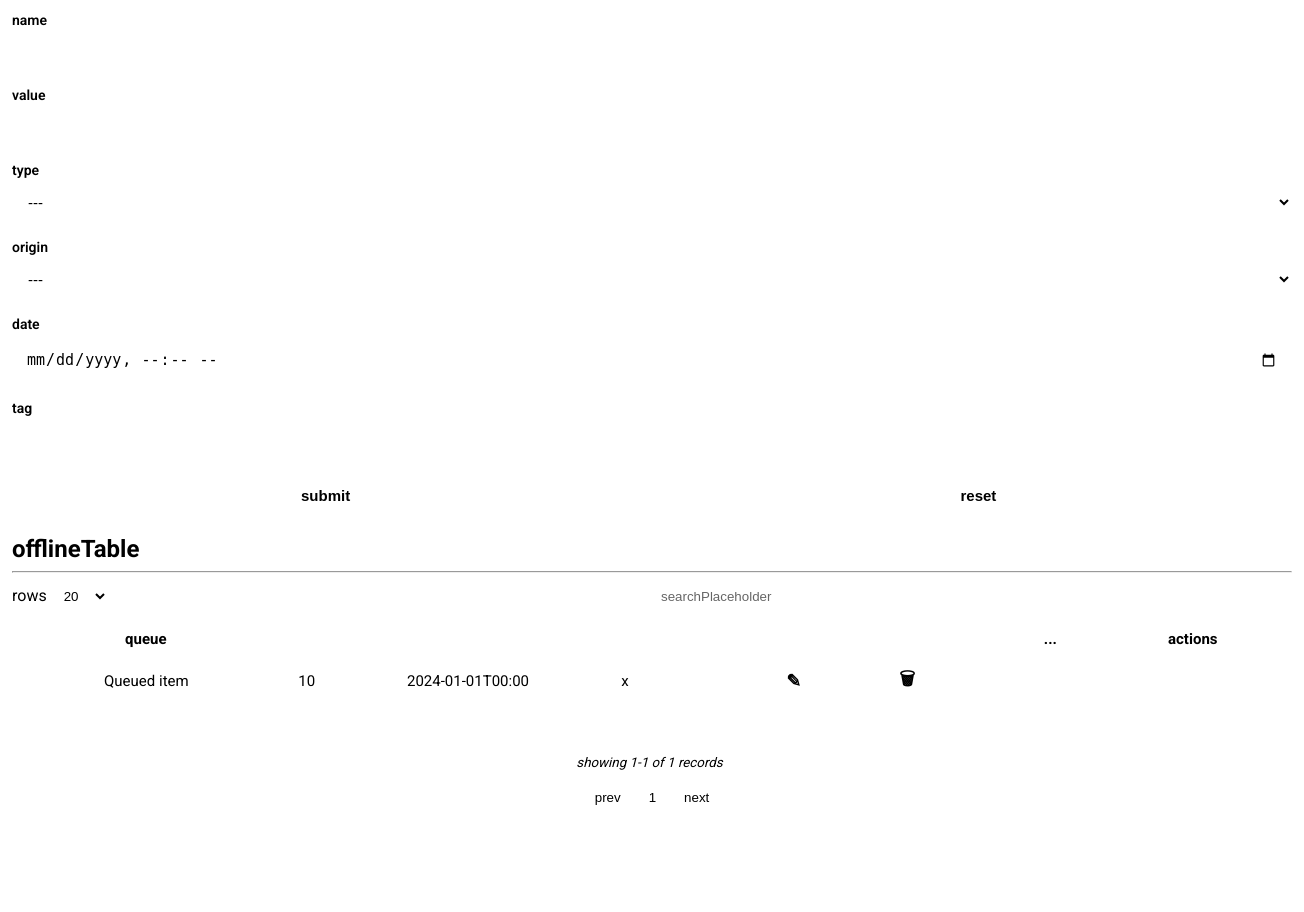
Test case: Offline queue row actions (edit / delete) › loads a queued row back into the form for editing, via the row edit button
The width and height of the screenshot is (1304, 912).
What coordinates should you click on to do the following:
click the button titled "edit"
I would click on:
 (794, 681)
Its box is x1=741 y1=662 x2=846 y2=700.
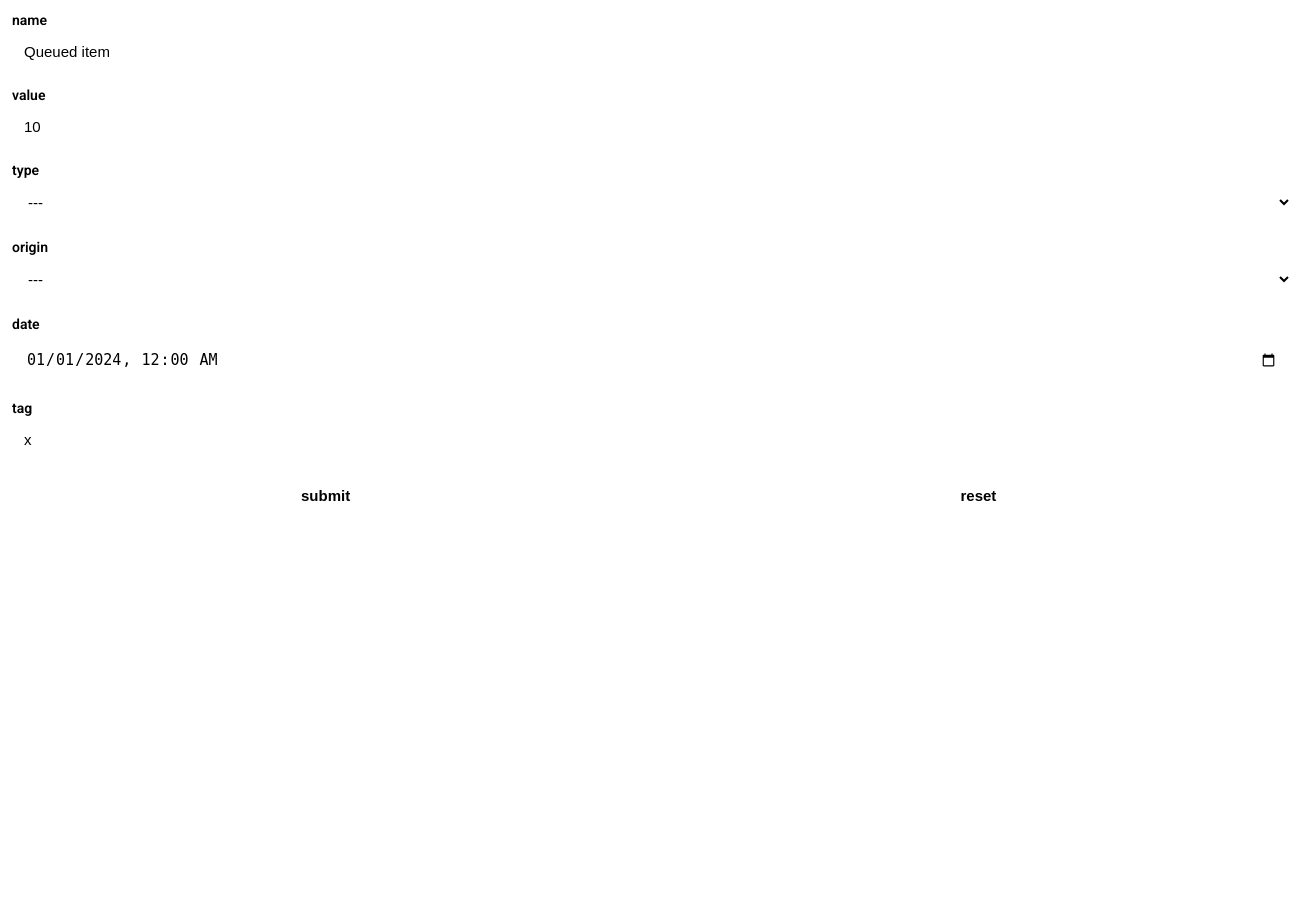
Now the field labelled "name" holds "Queued item", box x1=12 y1=35 x2=1292 y2=68
Now the field labelled "value" holds "10", box x1=12 y1=110 x2=1292 y2=143
